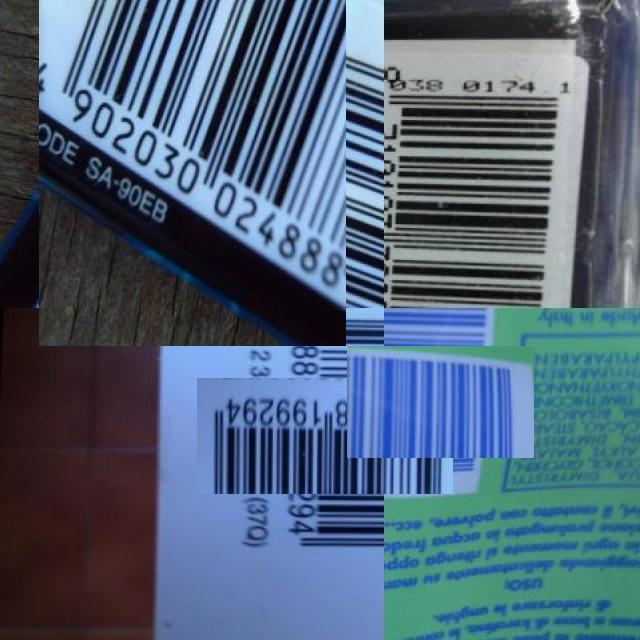Barcode: (19, 0, 365, 327), (384, 55, 581, 308), (232, 343, 419, 529), (365, 327, 515, 477)
